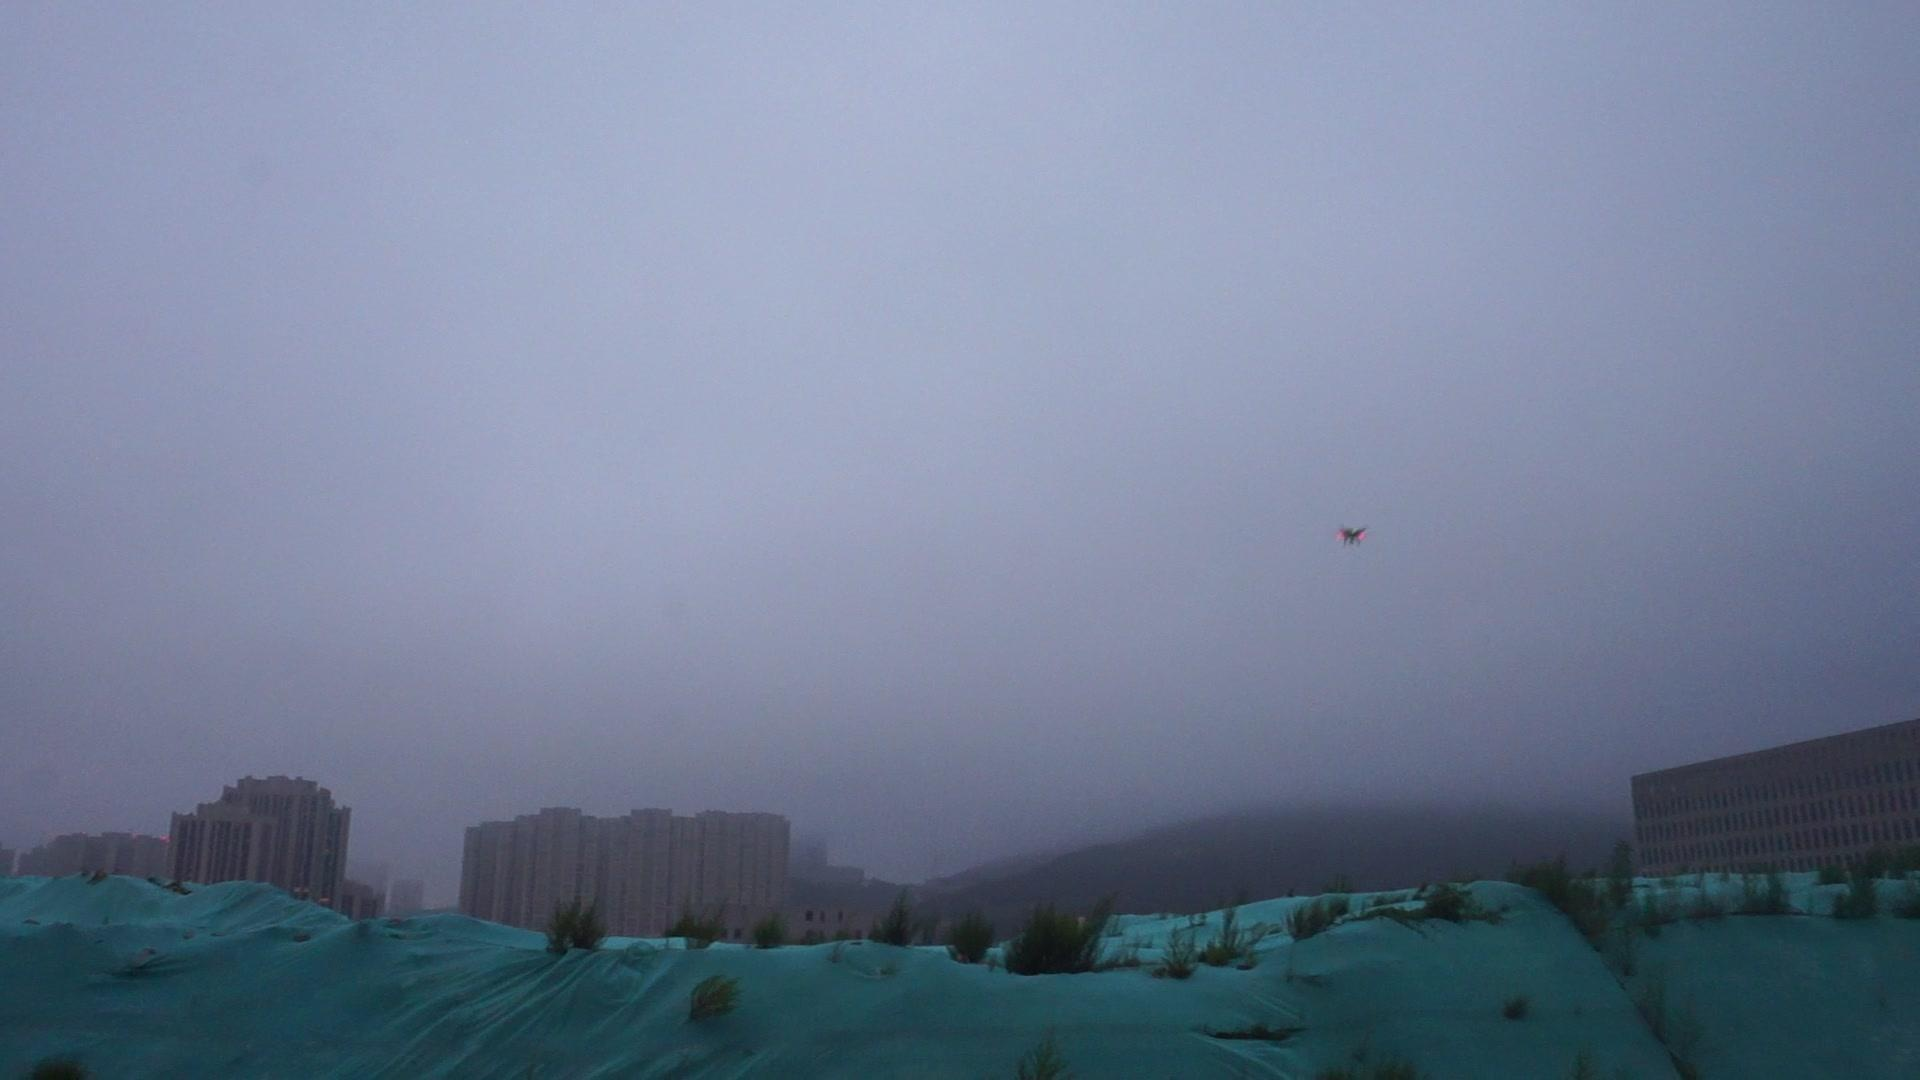UAV: (1337, 527, 1369, 547)
